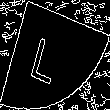L_N: (36, 26, 74, 84)
